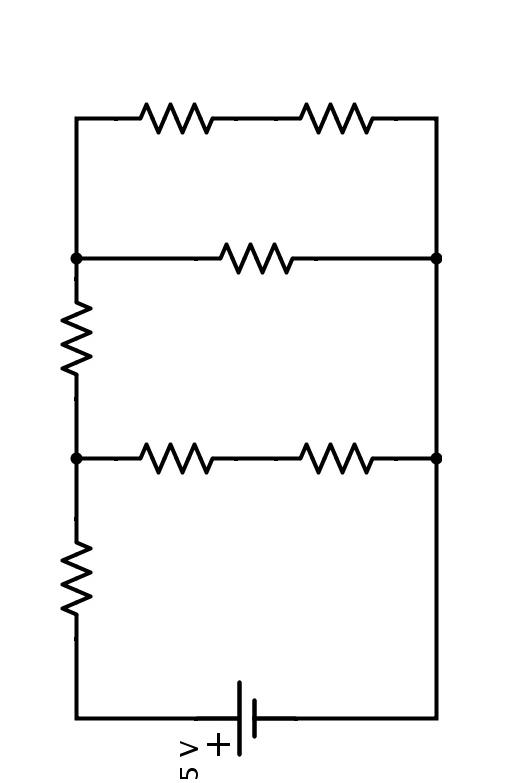resistor: (180, 205, 320, 301), (44, 519, 123, 654), (112, 413, 245, 487), (277, 80, 394, 163), (55, 273, 129, 402), (112, 82, 226, 152), (55, 273, 110, 402), (269, 421, 400, 474)
